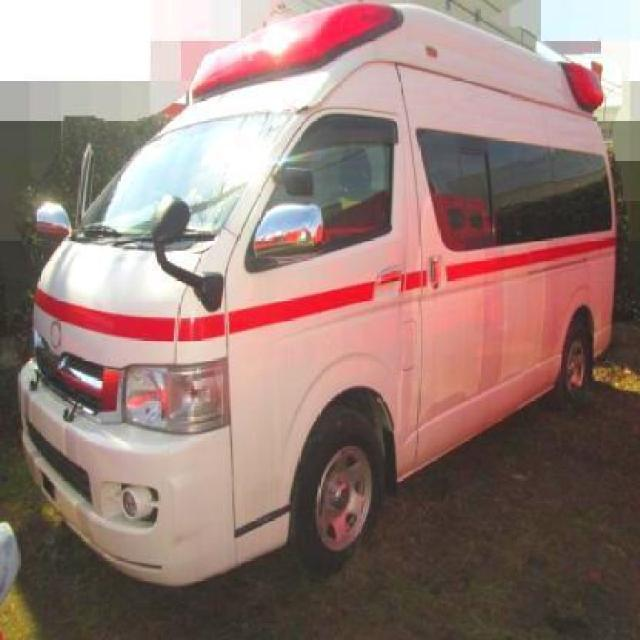emergency: (16, 6, 620, 594)
